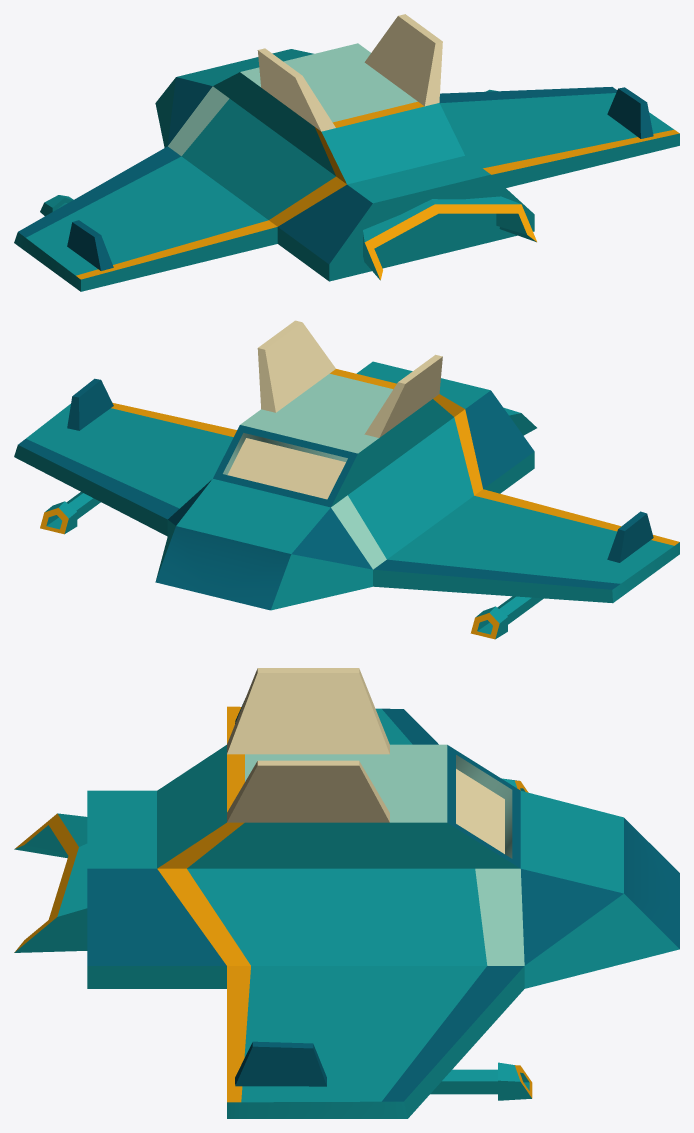
The model's file is enemies_1.fbx.
3 renders of one model, top to bottom at view 1: azimuth 30°, elevation 25°; view 2: azimuth 150°, elevation 25°; view 3: azimuth 270°, elevation 25°, orthographic. The views are drawn at different scales.
Visible parts, largest first — view 1: ENEMY_1; view 2: ENEMY_1; view 3: ENEMY_1.
Boxes of the visible parts, box(x1,y1,x2,y2) form: ENEMY_1: box(14, 14, 679, 291); ENEMY_1: box(14, 320, 679, 639); ENEMY_1: box(14, 668, 679, 1118).
Size of the model in its own units: 277 by 76.23 by 197.
